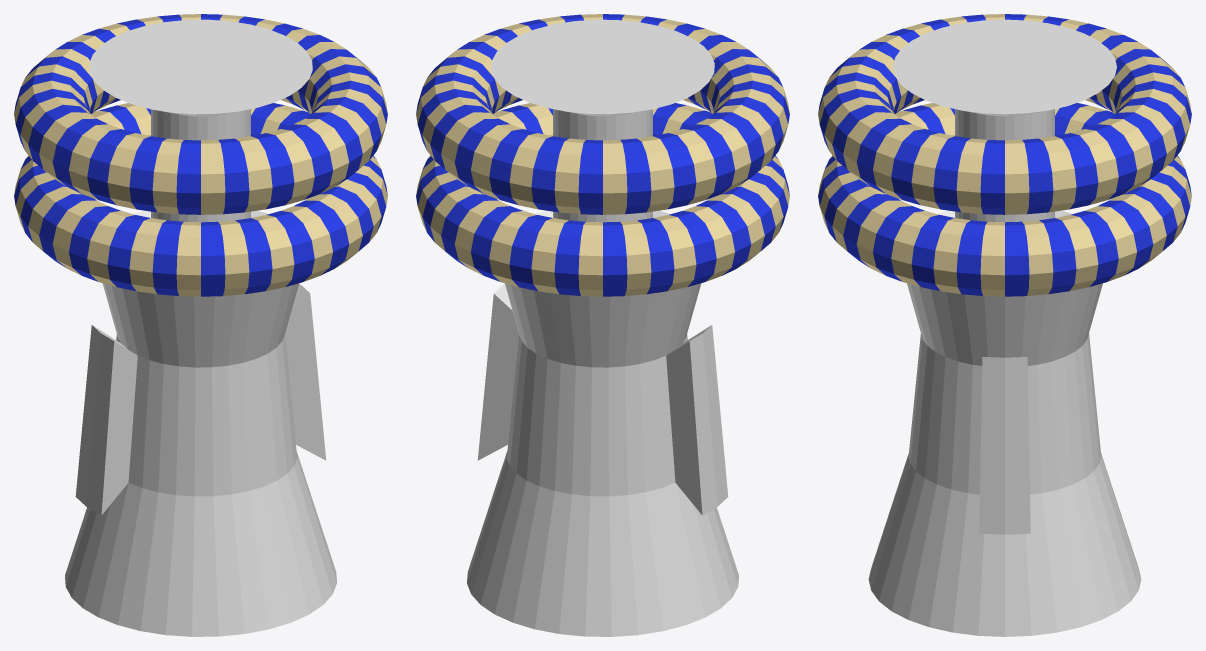
The picture shows the model from 3 angles, left to right: view 1: azimuth 30°, elevation 25°; view 2: azimuth 150°, elevation 25°; view 3: azimuth 270°, elevation 25°; orthographic projection.
Visible parts, largest first — view 1: Cylinder, Torus, Torus.001; view 2: Cylinder, Torus, Torus.001; view 3: Cylinder, Torus, Torus.001.
Part boxes in pixels (box(x1,y1,x2,y2)): Cylinder: box(65, 19, 336, 636); Torus: box(14, 14, 387, 214); Torus.001: box(14, 103, 387, 296); Cylinder: box(467, 19, 738, 636); Torus: box(416, 14, 789, 214); Torus.001: box(416, 103, 789, 296); Cylinder: box(868, 19, 1141, 636); Torus: box(818, 14, 1191, 214); Torus.001: box(818, 103, 1191, 296).
Bounding box in the file's own units: 60.65 × 91.73 × 60.65.
